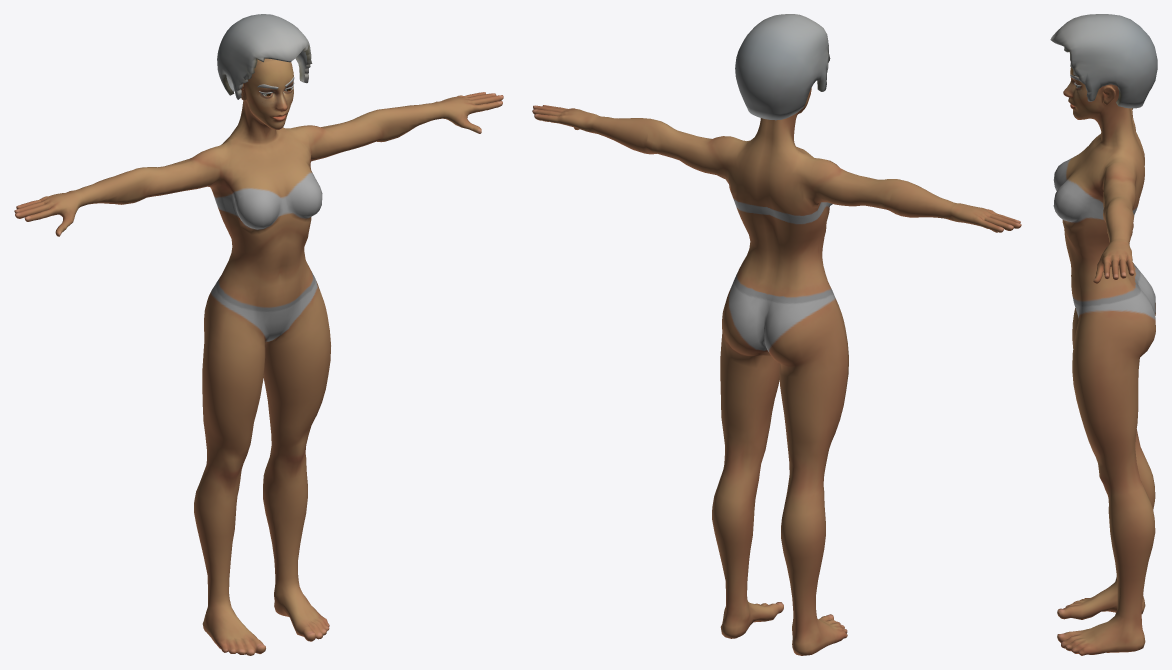
Rendered from character-female-e.glb.
3 views of the same model, side by side, from view 1: azimuth 30°, elevation 25°; view 2: azimuth 150°, elevation 25°; view 3: azimuth 270°, elevation 25° (orthographic).
Parts seen in each view (by area): view 1: crowd-body; view 2: crowd-body; view 3: crowd-body.
Boxes of the visible parts, left/top/right/bottom form: crowd-body: left=14, top=14, right=503, bottom=655; crowd-body: left=532, top=14, right=1021, bottom=655; crowd-body: left=1050, top=14, right=1157, bottom=655.
Bounding box in the file's own units: 1.04 × 1.25 × 0.1976.
4 materials, 4 textured.
